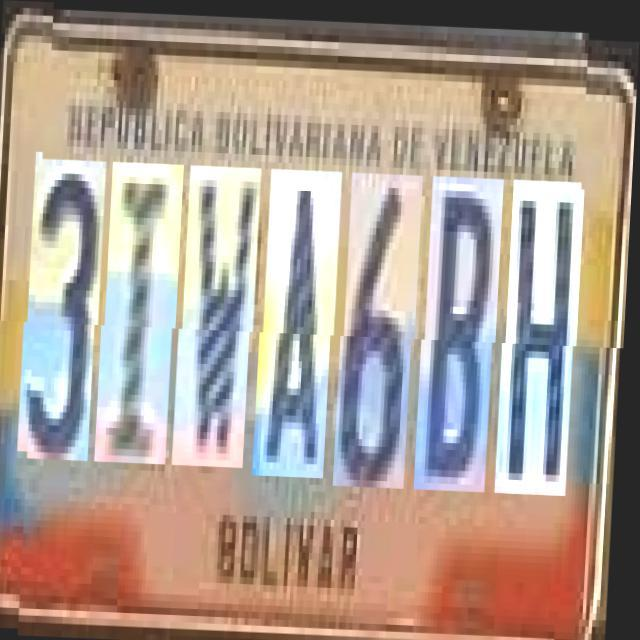3: (25, 158, 108, 460)
6: (342, 170, 424, 484)
A: (261, 167, 344, 476)
B: (422, 172, 505, 487)
H: (503, 175, 586, 490)
I: (102, 161, 186, 463)
W: (180, 164, 263, 466)
